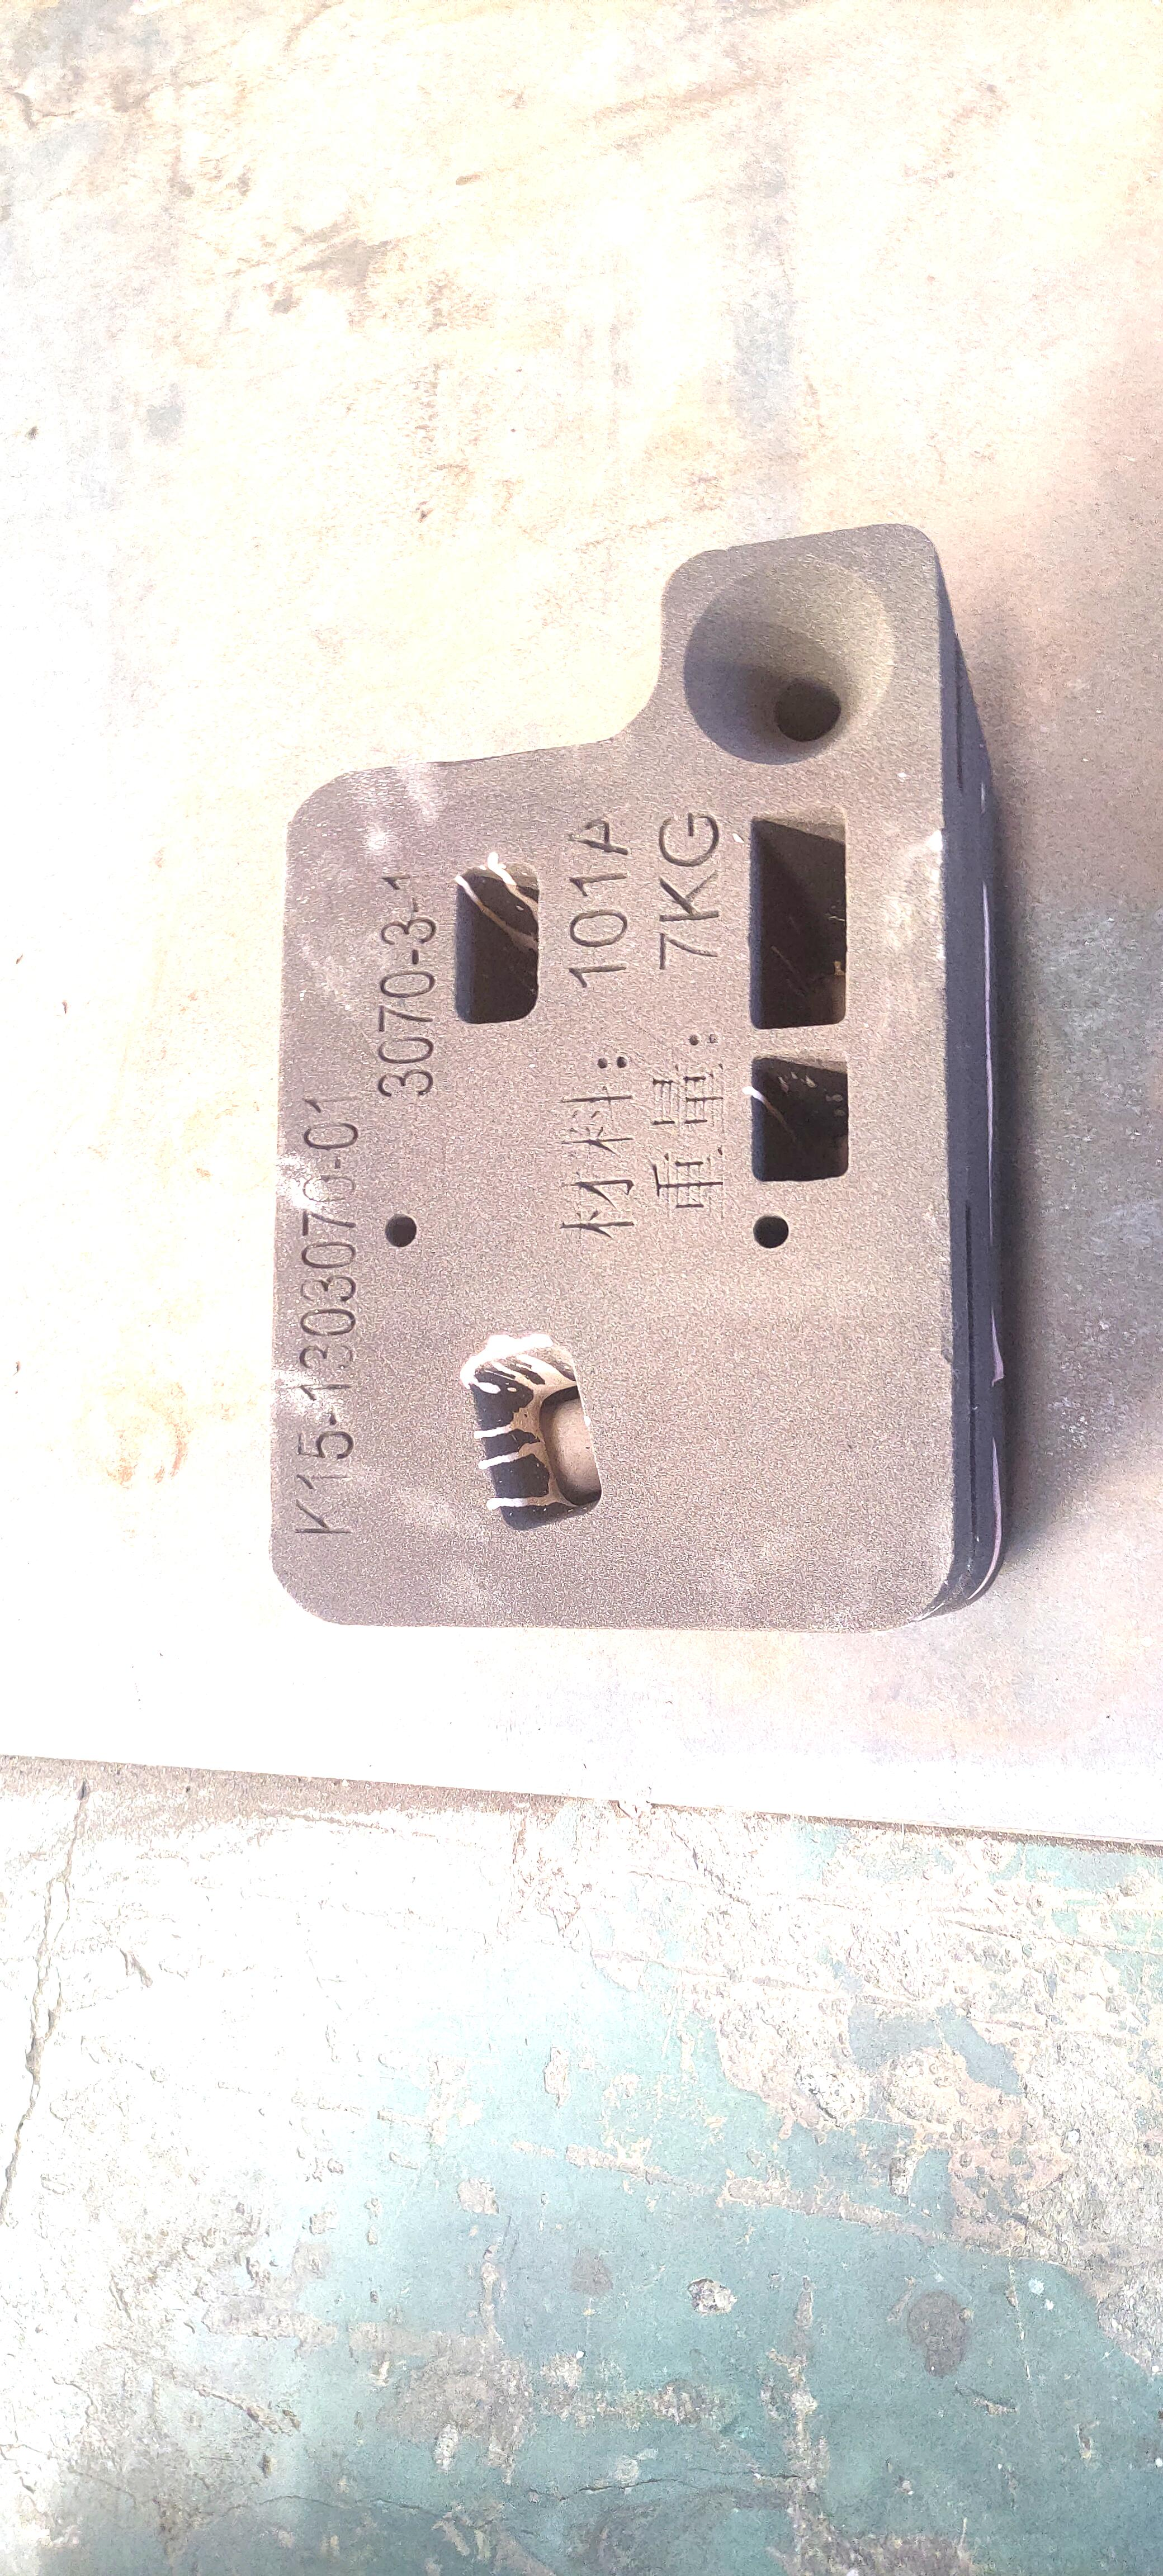pouring hole: (683, 559, 895, 769)
